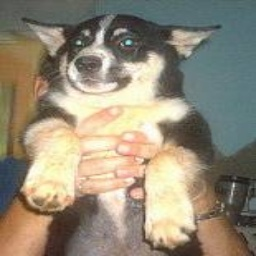dog: (19, 10, 218, 247)
